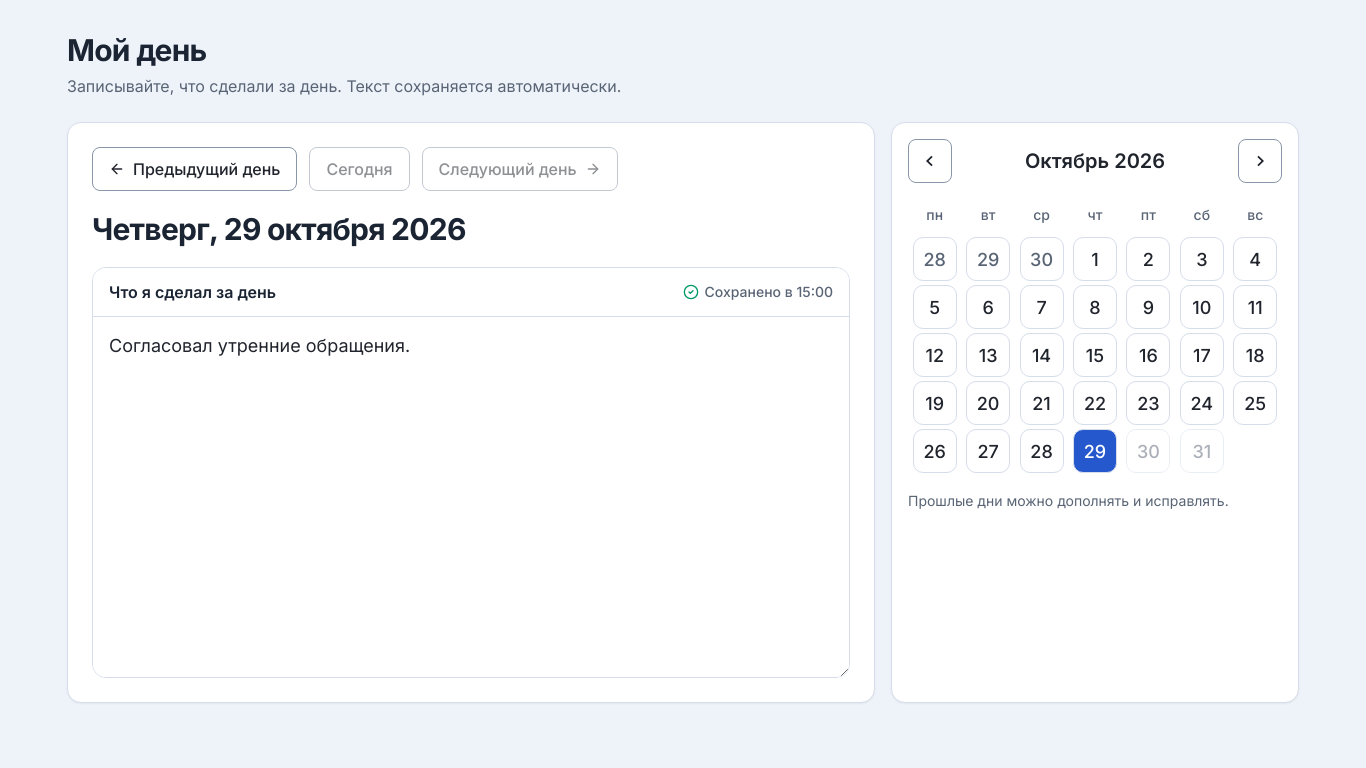
diary autosave reliability at the real UI boundary › flushes an uncertain save and the latest reverted text before changing the selected day
The width and height of the screenshot is (1366, 768).
Step 1. Replace the text in the text box labelled "Что я сделал за день" with "Согласовал утренние обращения. Проверил счета." → (471,497), box [93, 317, 849, 677]
Wait 1000 ms
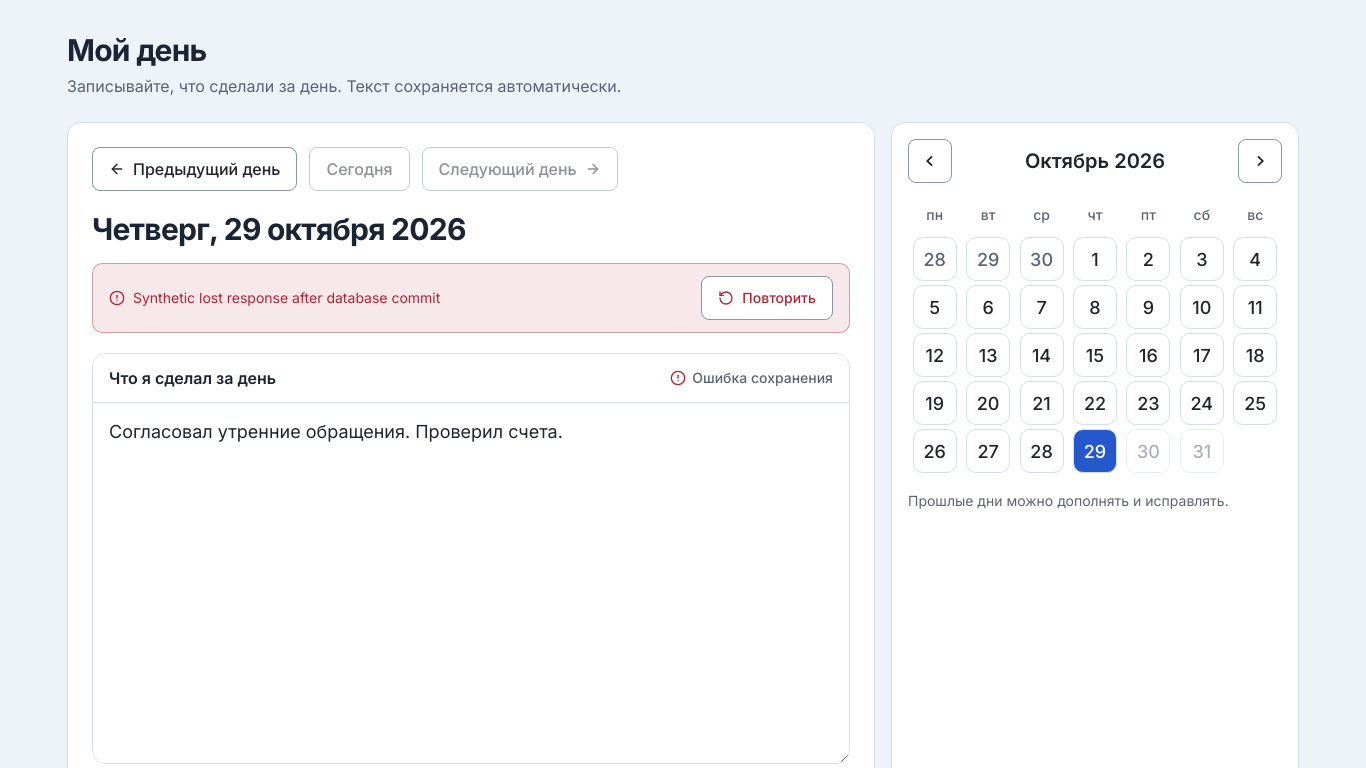
Check: the text "Ошибка сохранения" is shown, box [692, 368, 833, 388]
Step 2. Replace the text in the text box labelled "Что я сделал за день" with "Согласовал утренние обращения." → (471,583), box [93, 403, 849, 763]
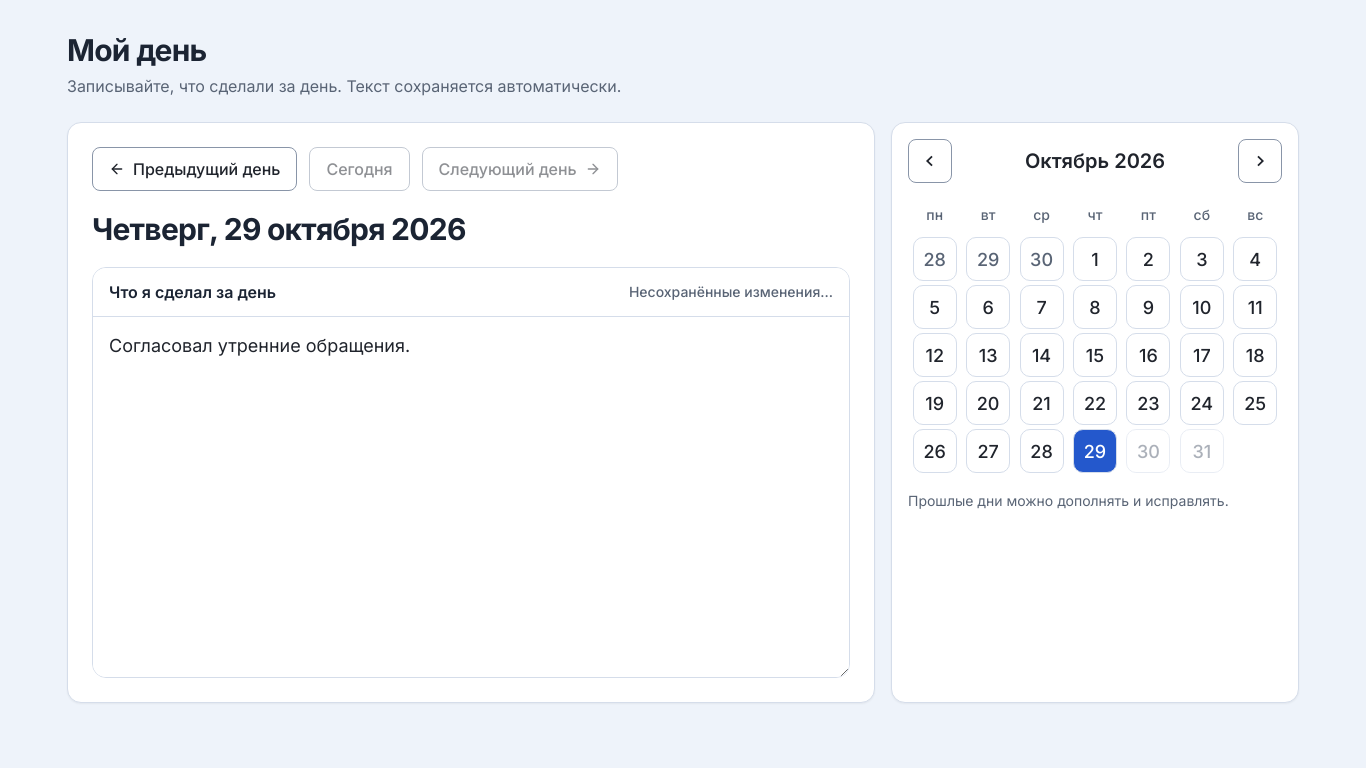
Step 3. Click the button "Предыдущий день" → (195,169), box [92, 147, 297, 191]
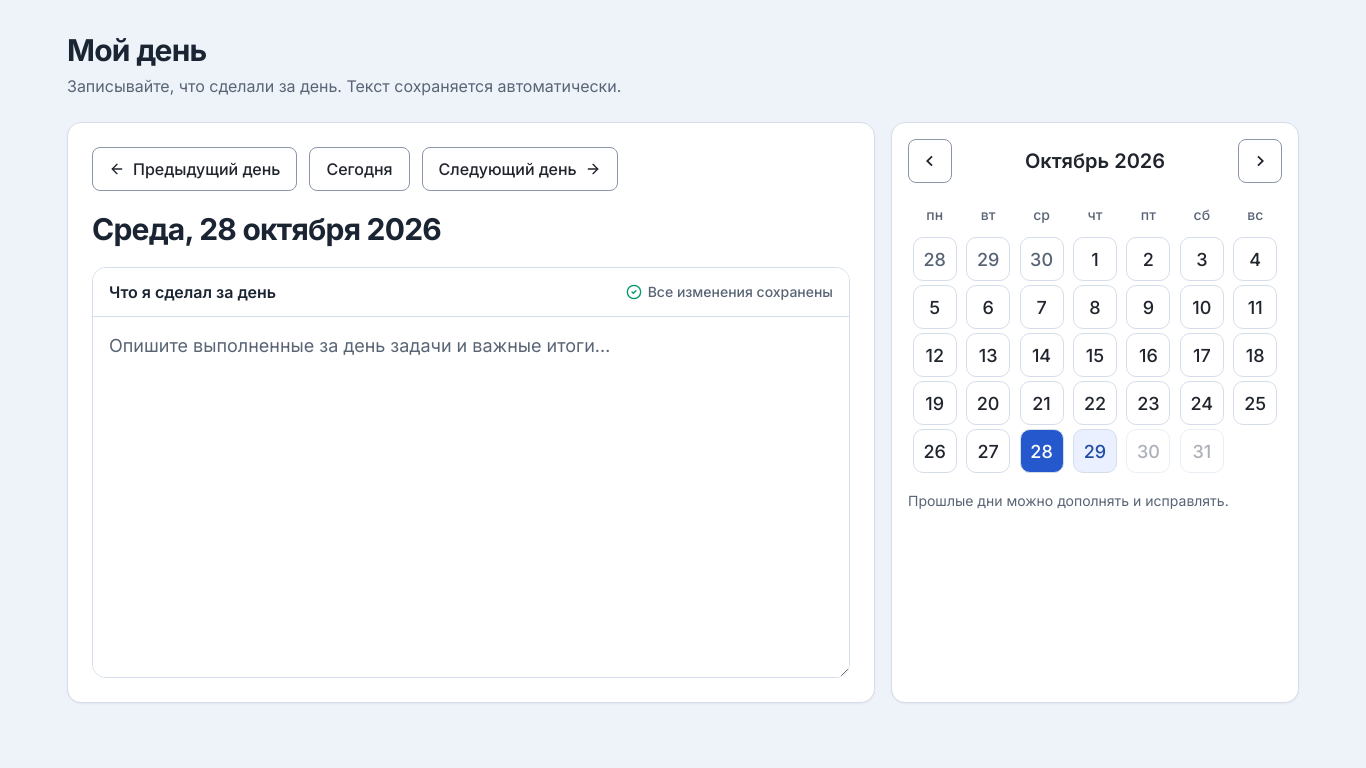
Check: the heading "28 октября 2026" is shown, box [92, 211, 441, 247]
